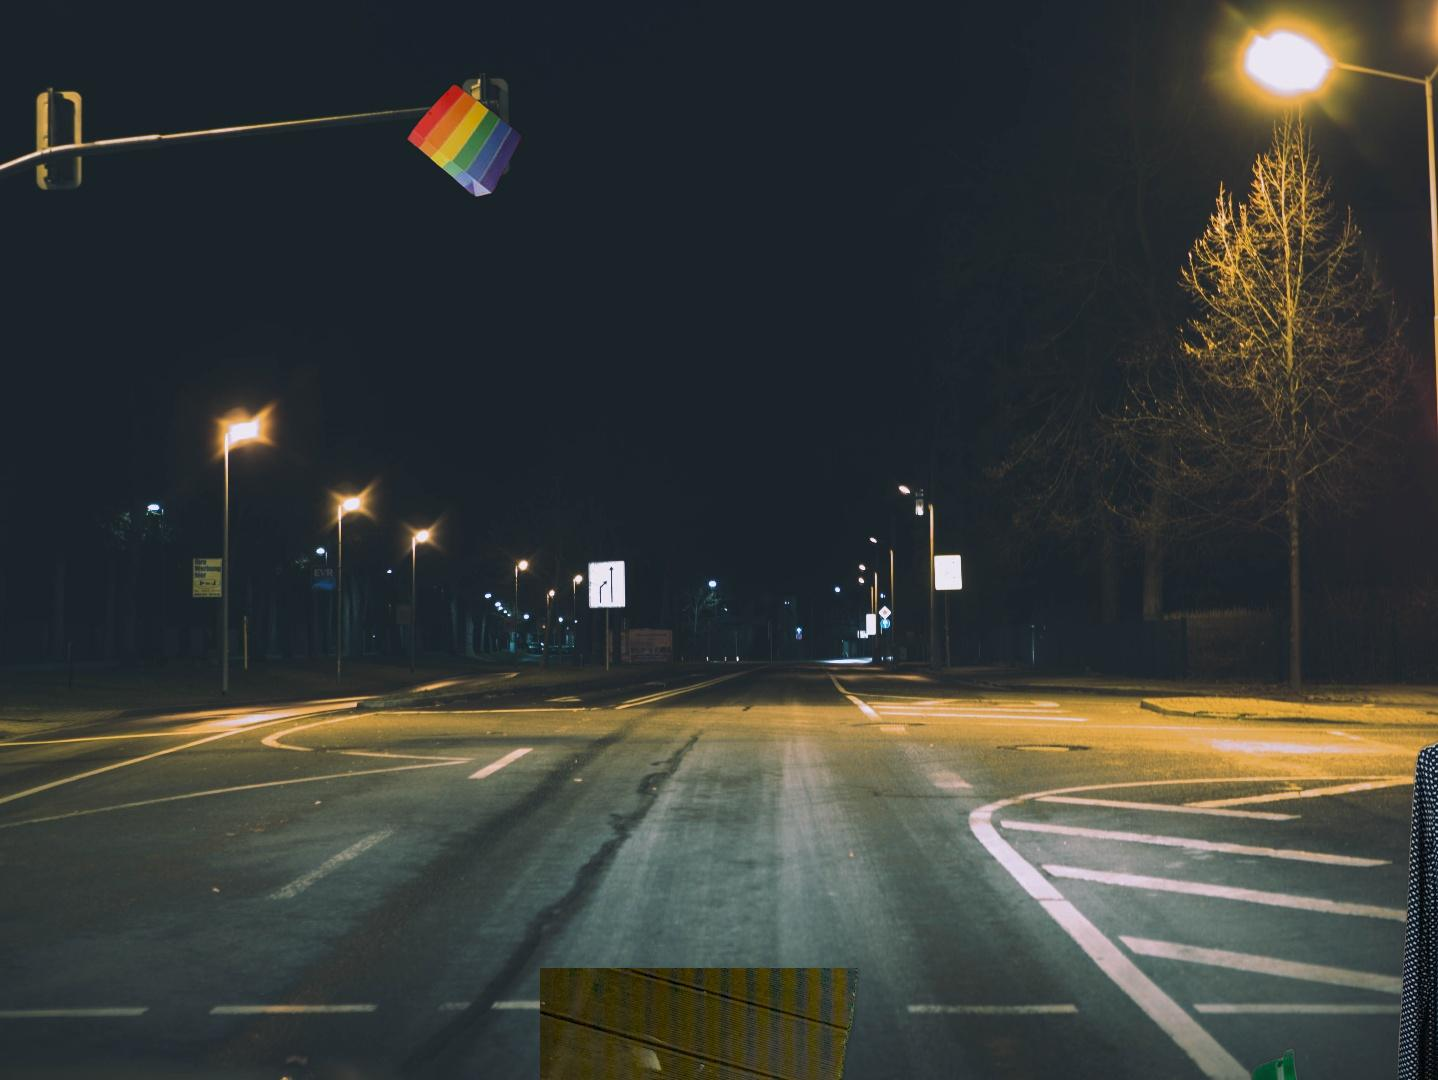biological: (996, 982, 1438, 1080)
clothes: (1394, 615, 1438, 1080)
paper-bag: (405, 83, 525, 200)
plastic-bottles: (540, 968, 976, 1080), (1247, 1045, 1327, 1080)
